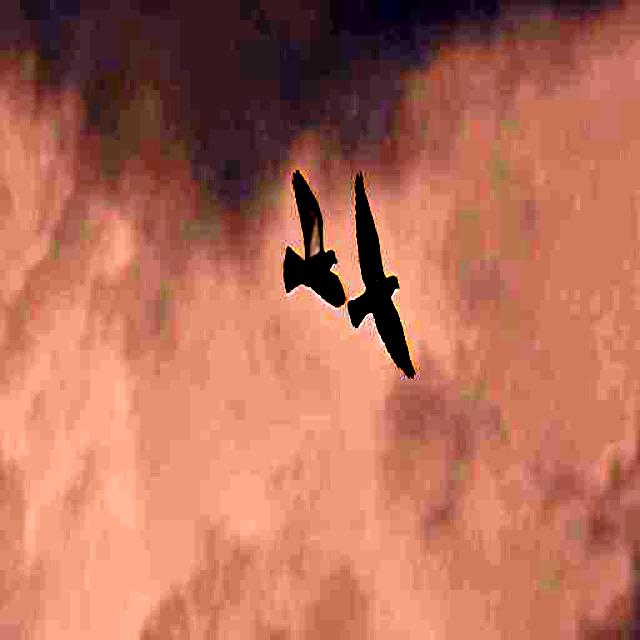airplane: (352, 151, 438, 424), (274, 139, 349, 324)
